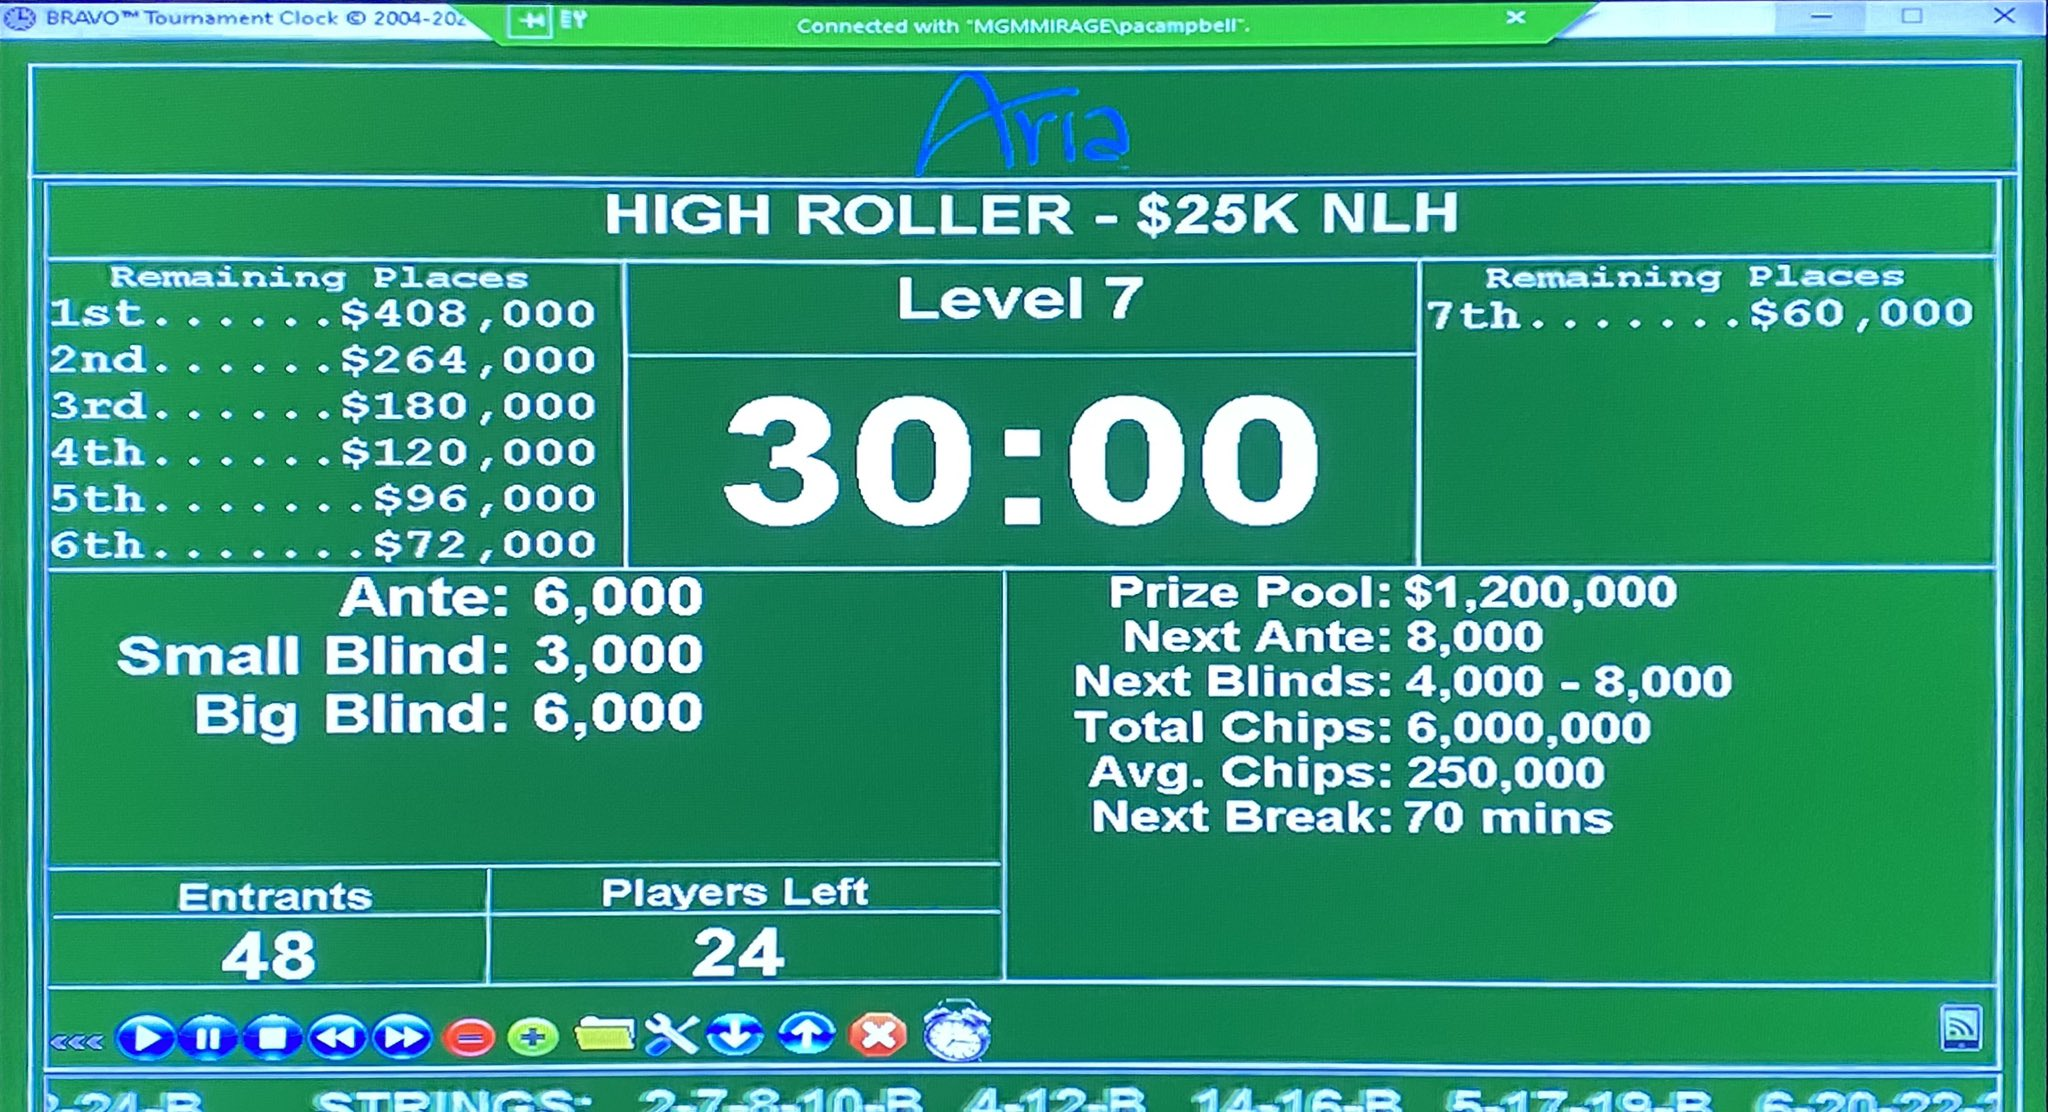PlayersLeft: (483, 865, 1011, 986)
Remaining: (38, 253, 637, 572), (1416, 253, 2001, 574)
TournamentClock: (23, 173, 2007, 995)
